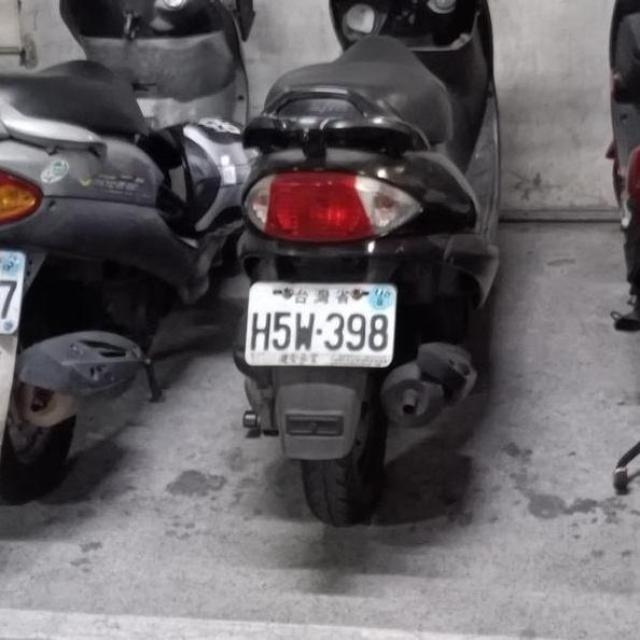W: (241, 271, 402, 373), (0, 226, 32, 342)
